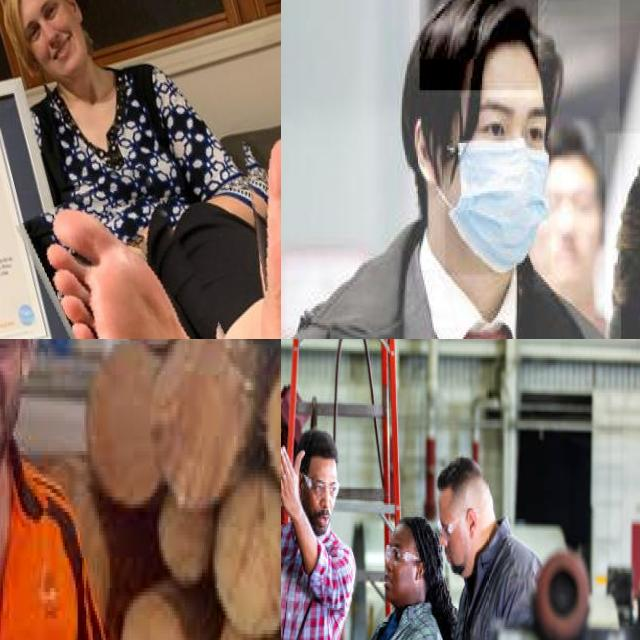Barefoots: (29, 197, 278, 339)
No_Ear-Protection: (414, 560, 425, 582), (466, 509, 476, 533), (298, 472, 306, 496)
face_mask: (445, 97, 551, 275)
face_nomask: (533, 155, 602, 292), (299, 477, 334, 536), (439, 521, 468, 576), (384, 561, 416, 607)
glasses: (303, 474, 339, 499), (386, 546, 420, 562), (437, 517, 460, 539)
hand_noglove: (281, 448, 304, 517)
head_nohelmet: (419, 0, 539, 92), (399, 517, 456, 640), (297, 429, 337, 474), (437, 456, 484, 491)
person: (281, 0, 621, 339), (0, 339, 117, 640)
